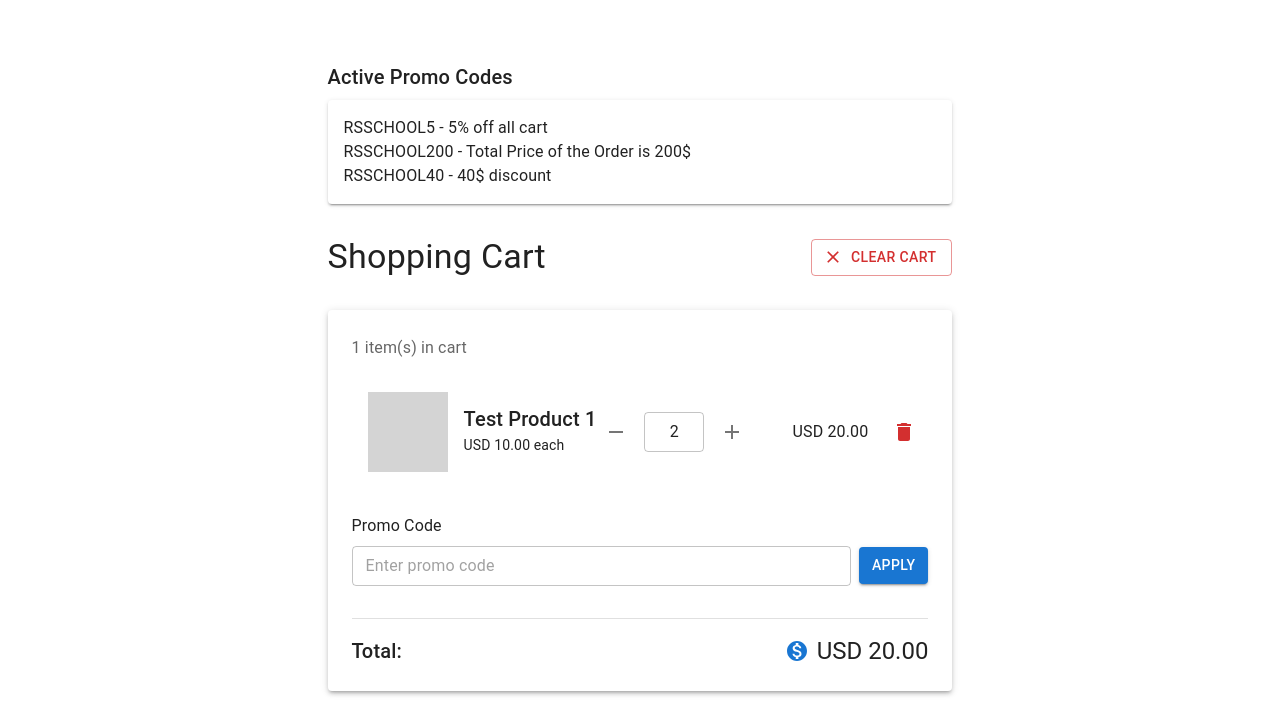
Test: CartComponent › opens clear cart confirmation dialog
The width and height of the screenshot is (1280, 720).
What coordinates should you click on to do the following:
click the button "Clear Cart"
I would click on:
 (882, 257)
Its box is top-left (811, 239), bottom-right (952, 276).
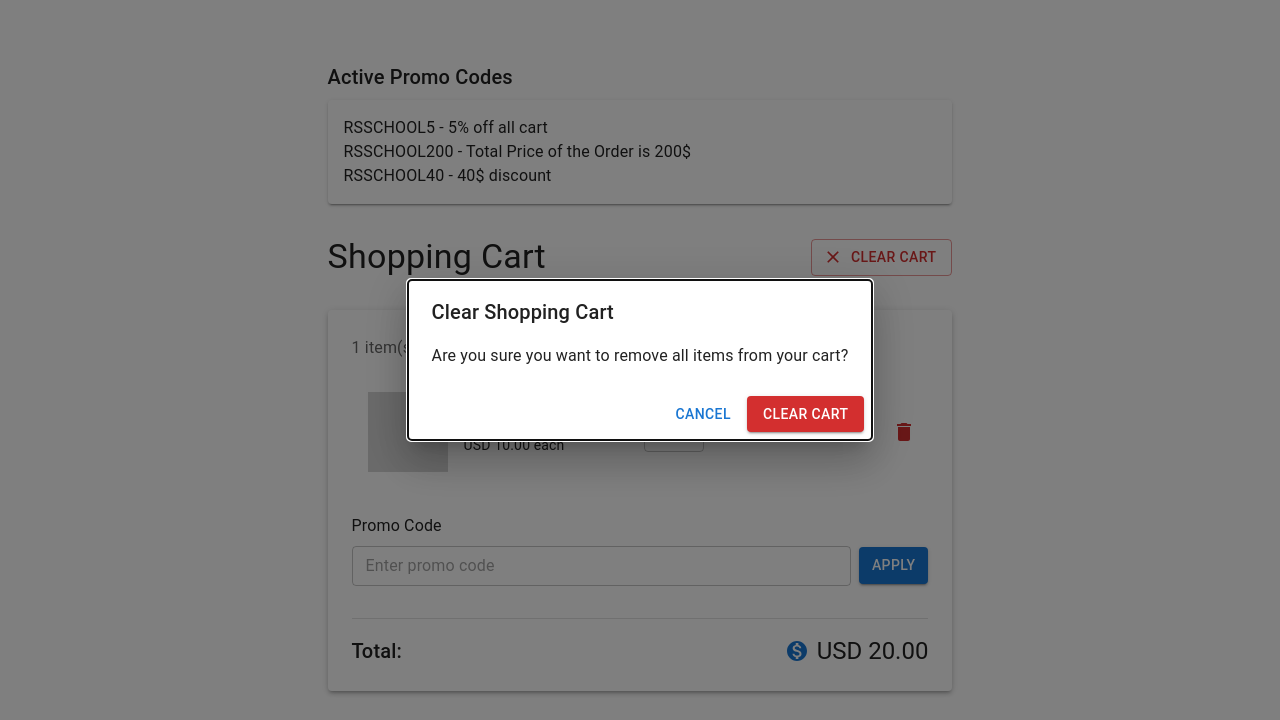
Expected: the heading "Clear Shopping Cart" is shown, top-left (432, 300), bottom-right (614, 324)
Expected: the text "Are you sure you want to remove all items from your cart?" is shown, top-left (432, 344), bottom-right (848, 368)
